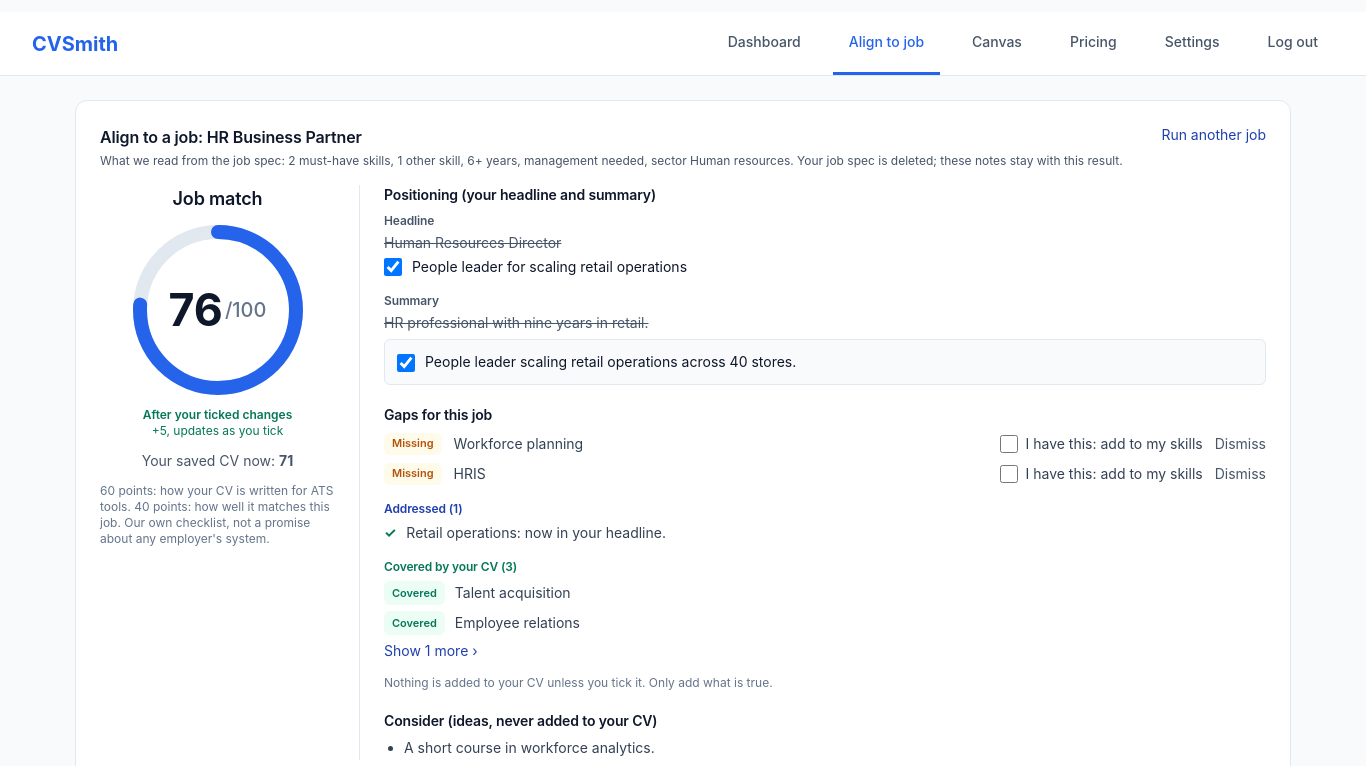
Test case: Align to job: result › keeps the "after" score live as items are ticked, and Addressed holds what was ticked
Expected: the text with test id "score-after" reads "76", [169,283,223,337]
What coordinates should you click on to do the following:
click the checkbox named "I have Workforce planning: add to my skills"
I would click on:
 (1008, 444)
Its box is [1000,435,1018,453].
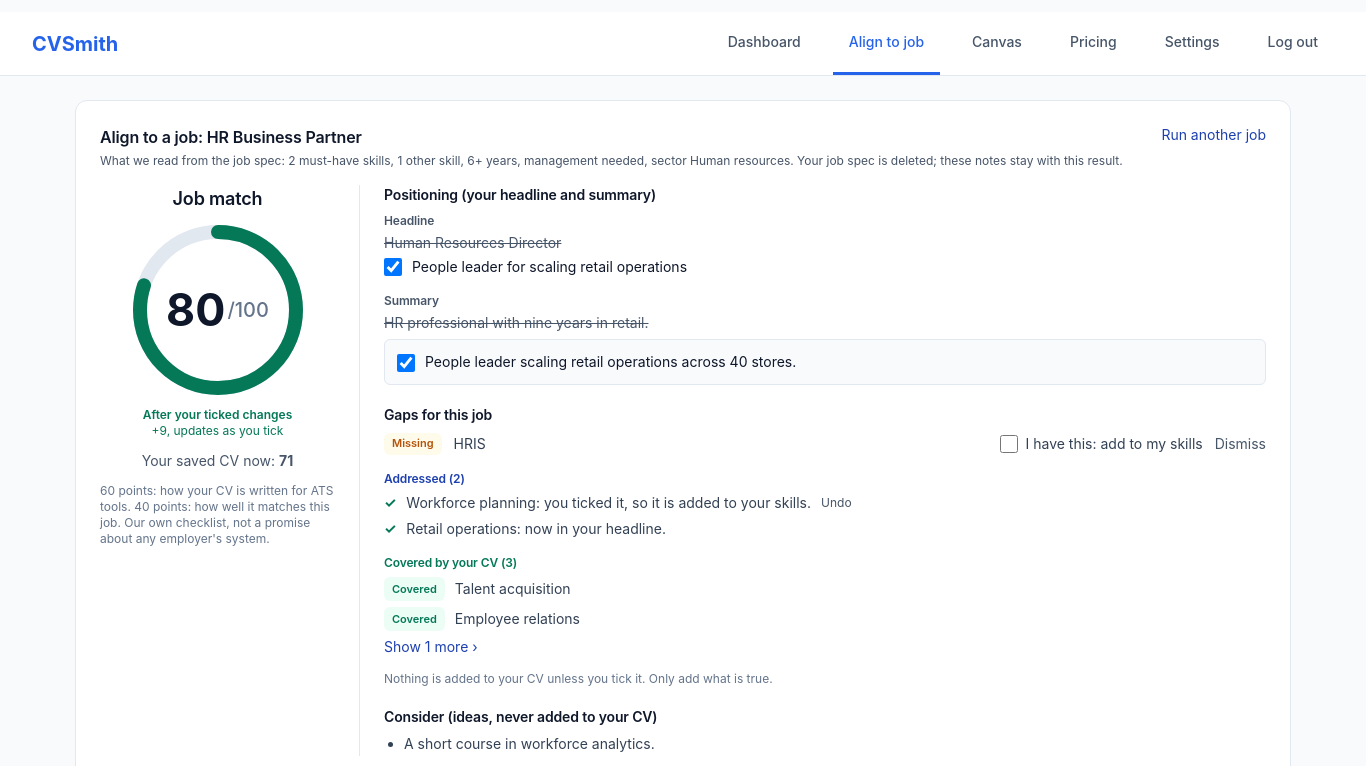
Result: the text with test id "score-after" reads "80" at [166,283,225,337]
Result: the text "Workforce planning: you ticked it" is shown at [406,493,811,513]
Result: the heading "Addressed (2)" is shown at [384,471,465,486]
Note: untick the headline: the headline's item goes back to Missing, the score drops
What coordinates should you click on to do the following:
click the checkbox labelled "People leader for scaling retail operations"
I would click on:
 (393, 267)
Its box is [384,258,402,276].
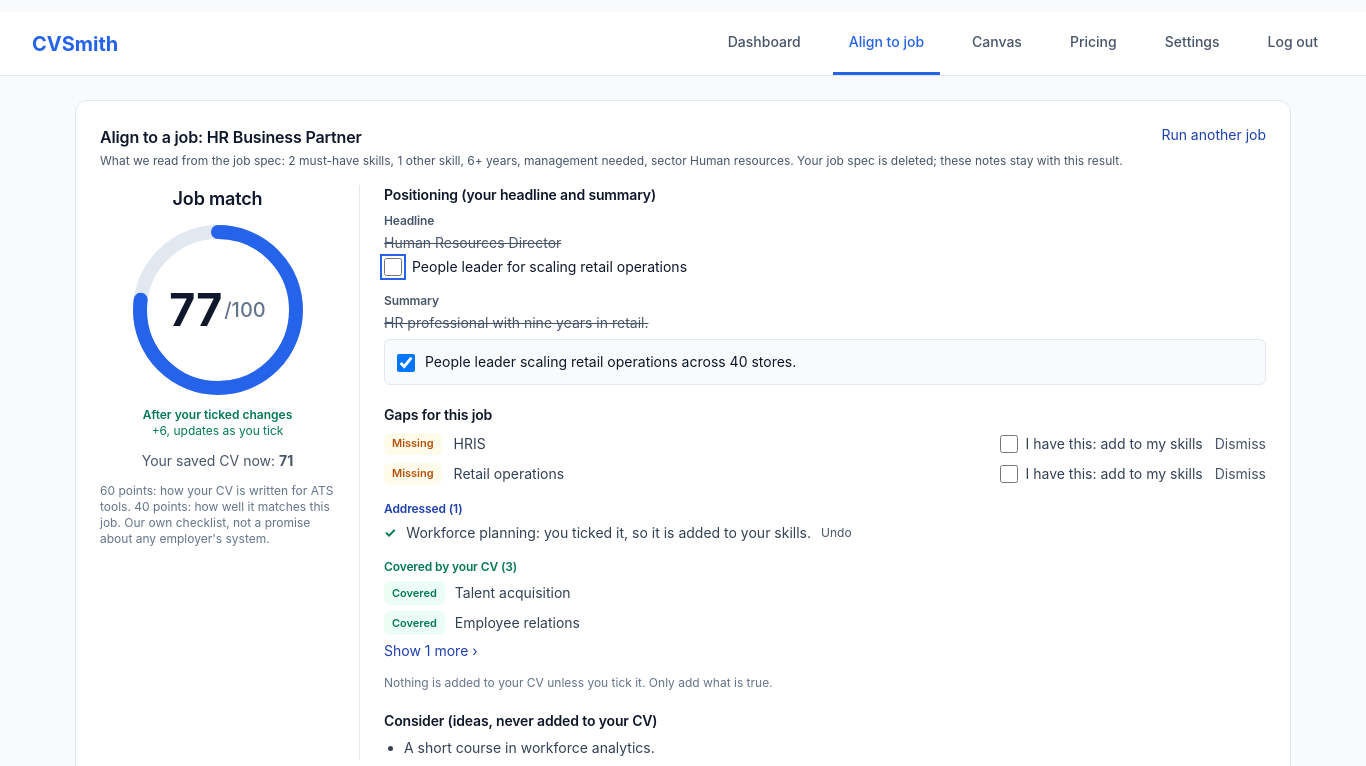
Result: the text with test id "score-after" reads "77" at [169,283,222,337]
Result: the checkbox named "I have Retail operations: add to my skills" is shown at [1000,465,1018,483]
What coordinates should you click on to do the following:
click the button with aria-label "Undo Workforce planning"
I would click on:
 (836, 533)
Its box is [821,525,852,541].
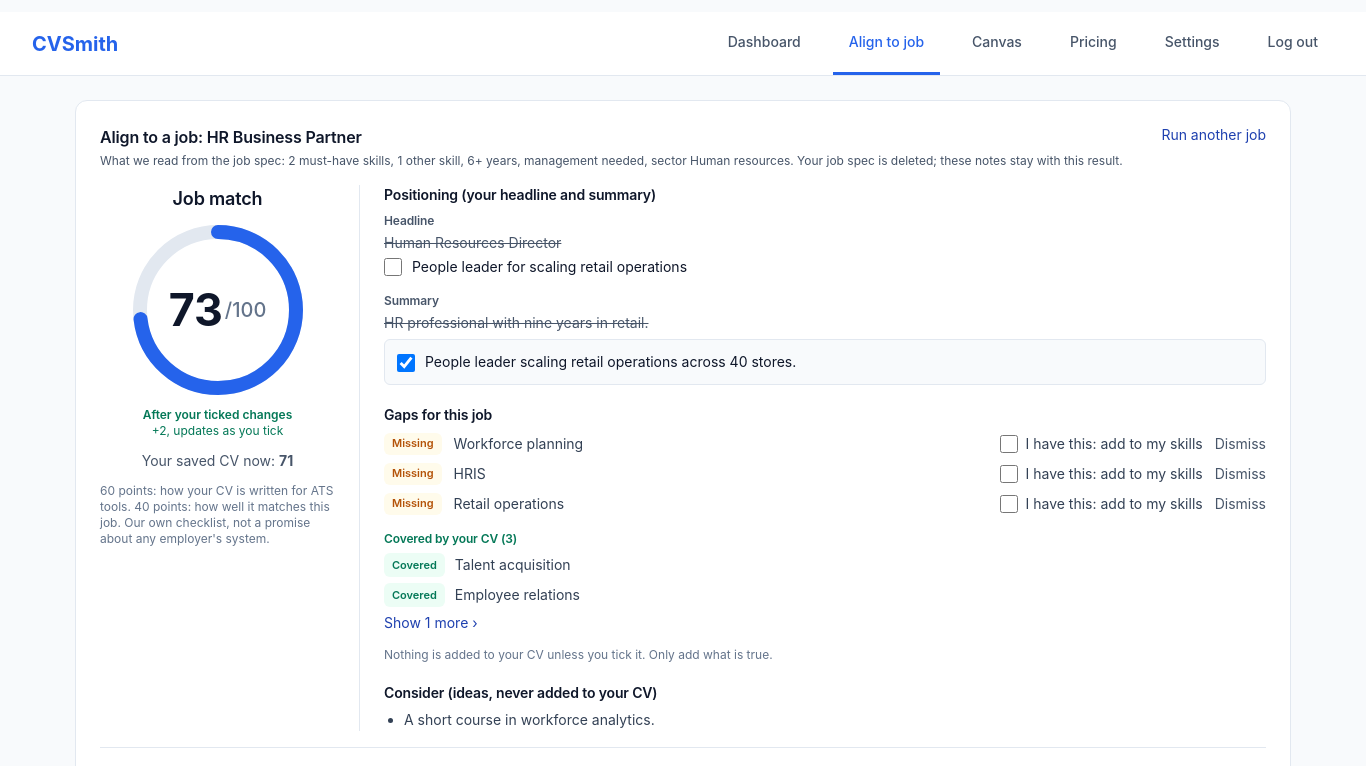
Result: the text with test id "score-after" reads "73" at [169,283,223,337]
